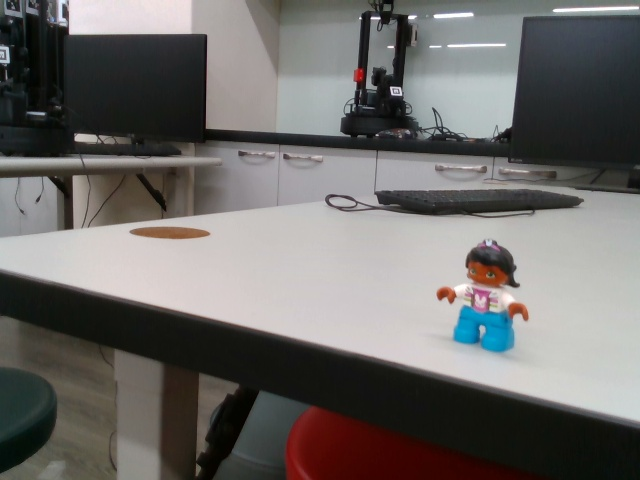people: (435, 236, 534, 356)
